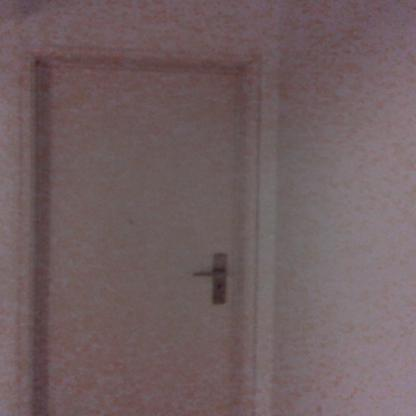door: (35, 64, 246, 416)
lever: (191, 268, 226, 282)
